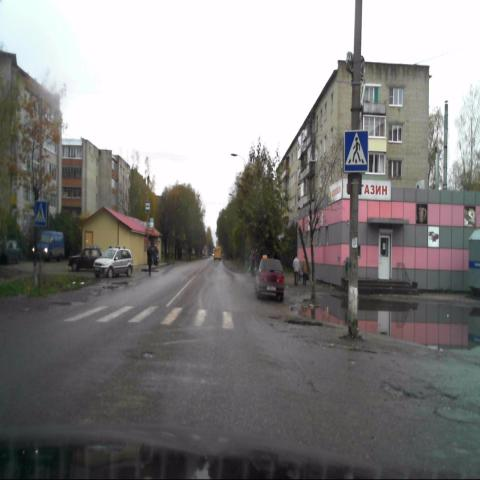5_19_1: (343, 129, 368, 173), (34, 200, 47, 225)
